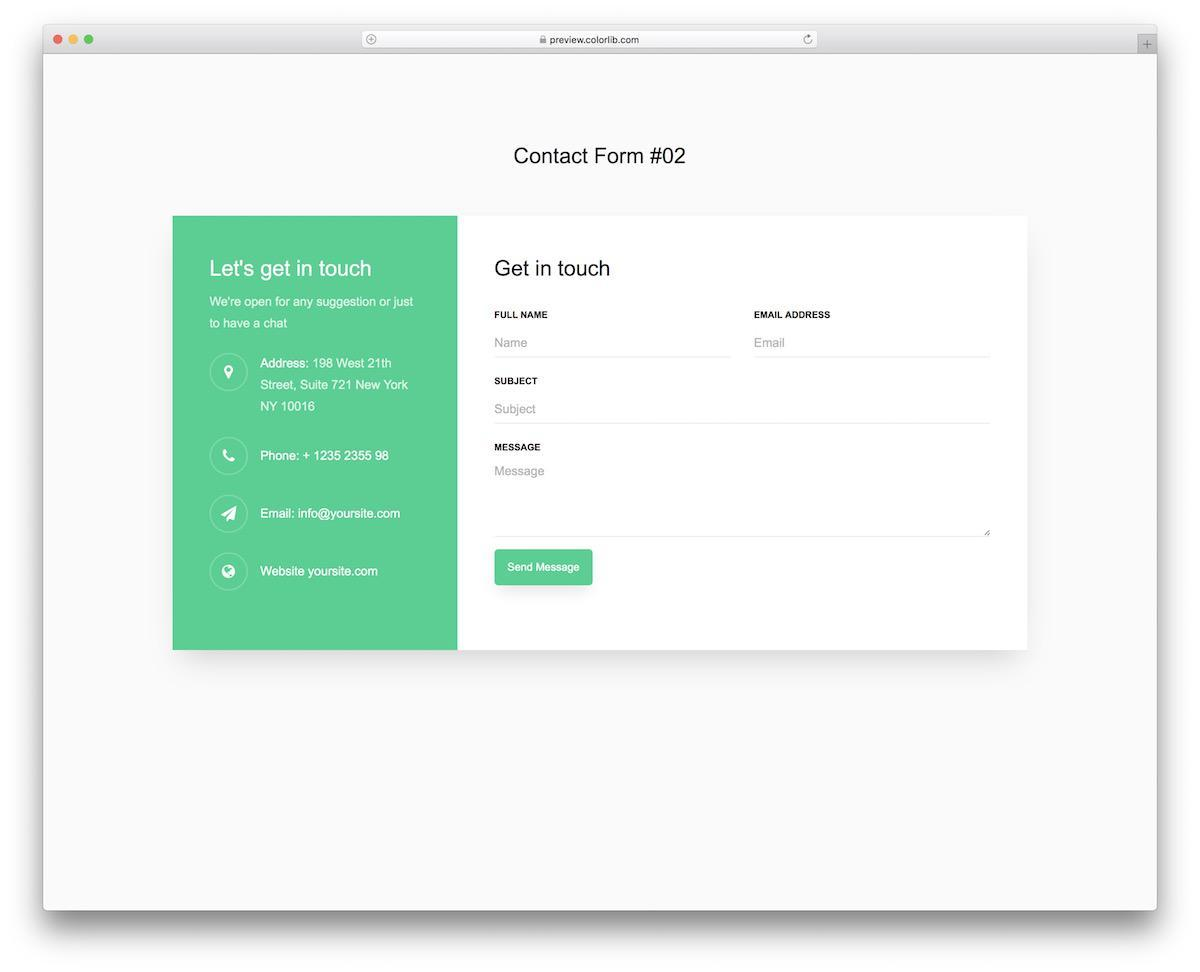button: (494, 548, 595, 588)
input: (493, 396, 998, 428), (752, 325, 995, 364), (494, 327, 734, 364)
label: (495, 259, 612, 279), (753, 308, 832, 322), (494, 308, 549, 322), (494, 443, 543, 453), (494, 377, 538, 387)
